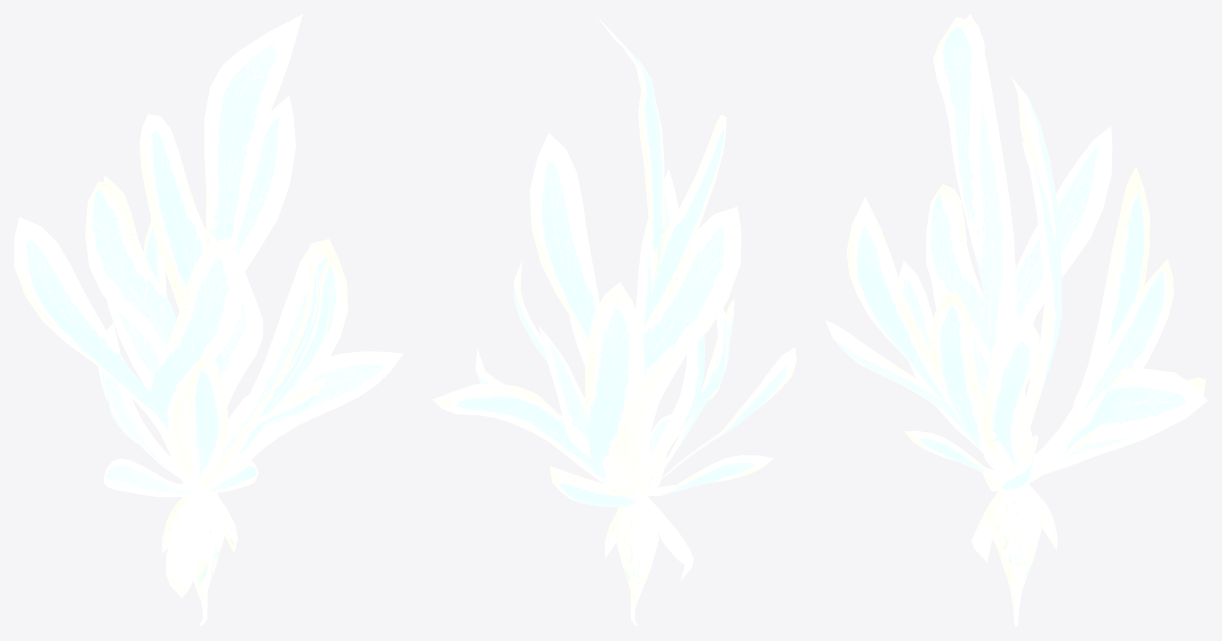
3 renders of one model, left to right at view 1: azimuth 30°, elevation 25°; view 2: azimuth 150°, elevation 25°; view 3: azimuth 270°, elevation 25°, orthographic. The views are drawn at different scales.
Parts seen in each view (by area): view 1: SM_Harralander_v3_LOD0; view 2: SM_Harralander_v3_LOD0; view 3: SM_Harralander_v3_LOD0.
Boxes of the visible parts, <box> form: SM_Harralander_v3_LOD0: <box>14,14,403,626</box>; SM_Harralander_v3_LOD0: <box>432,14,796,626</box>; SM_Harralander_v3_LOD0: <box>825,14,1207,626</box>.
Bounding box in the file's own units: 0.4453 × 0.7986 × 0.4272.
1 material, 1 textured.
